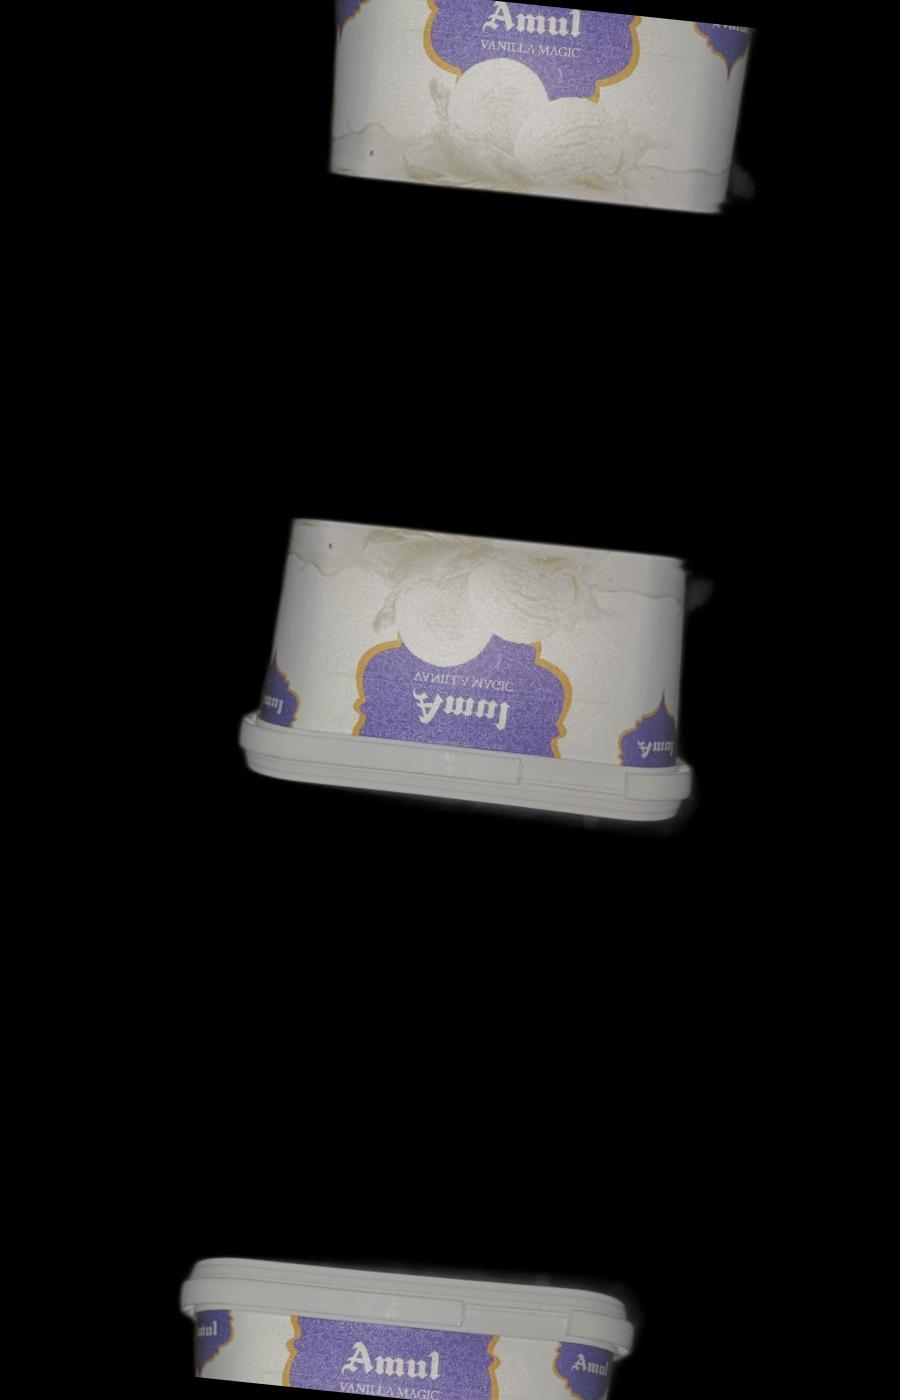Amul Ice Cream - Vanilla Magic 1 L Tub: (228, 513, 718, 833), (291, 0, 774, 221), (165, 1243, 641, 1400)
